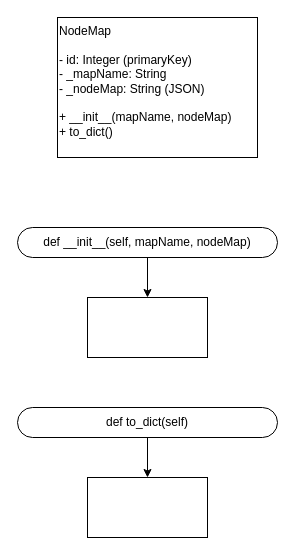
Image size: 295x555. Some labels were removed from this diagram. The shapes that lost their labels are listed below. From the top down, each one's centre as x and y in pixels, then its label:
At [147,327]: "define self mapName and nodeMap".
At [147,507]: "return each map as a dictionary".
